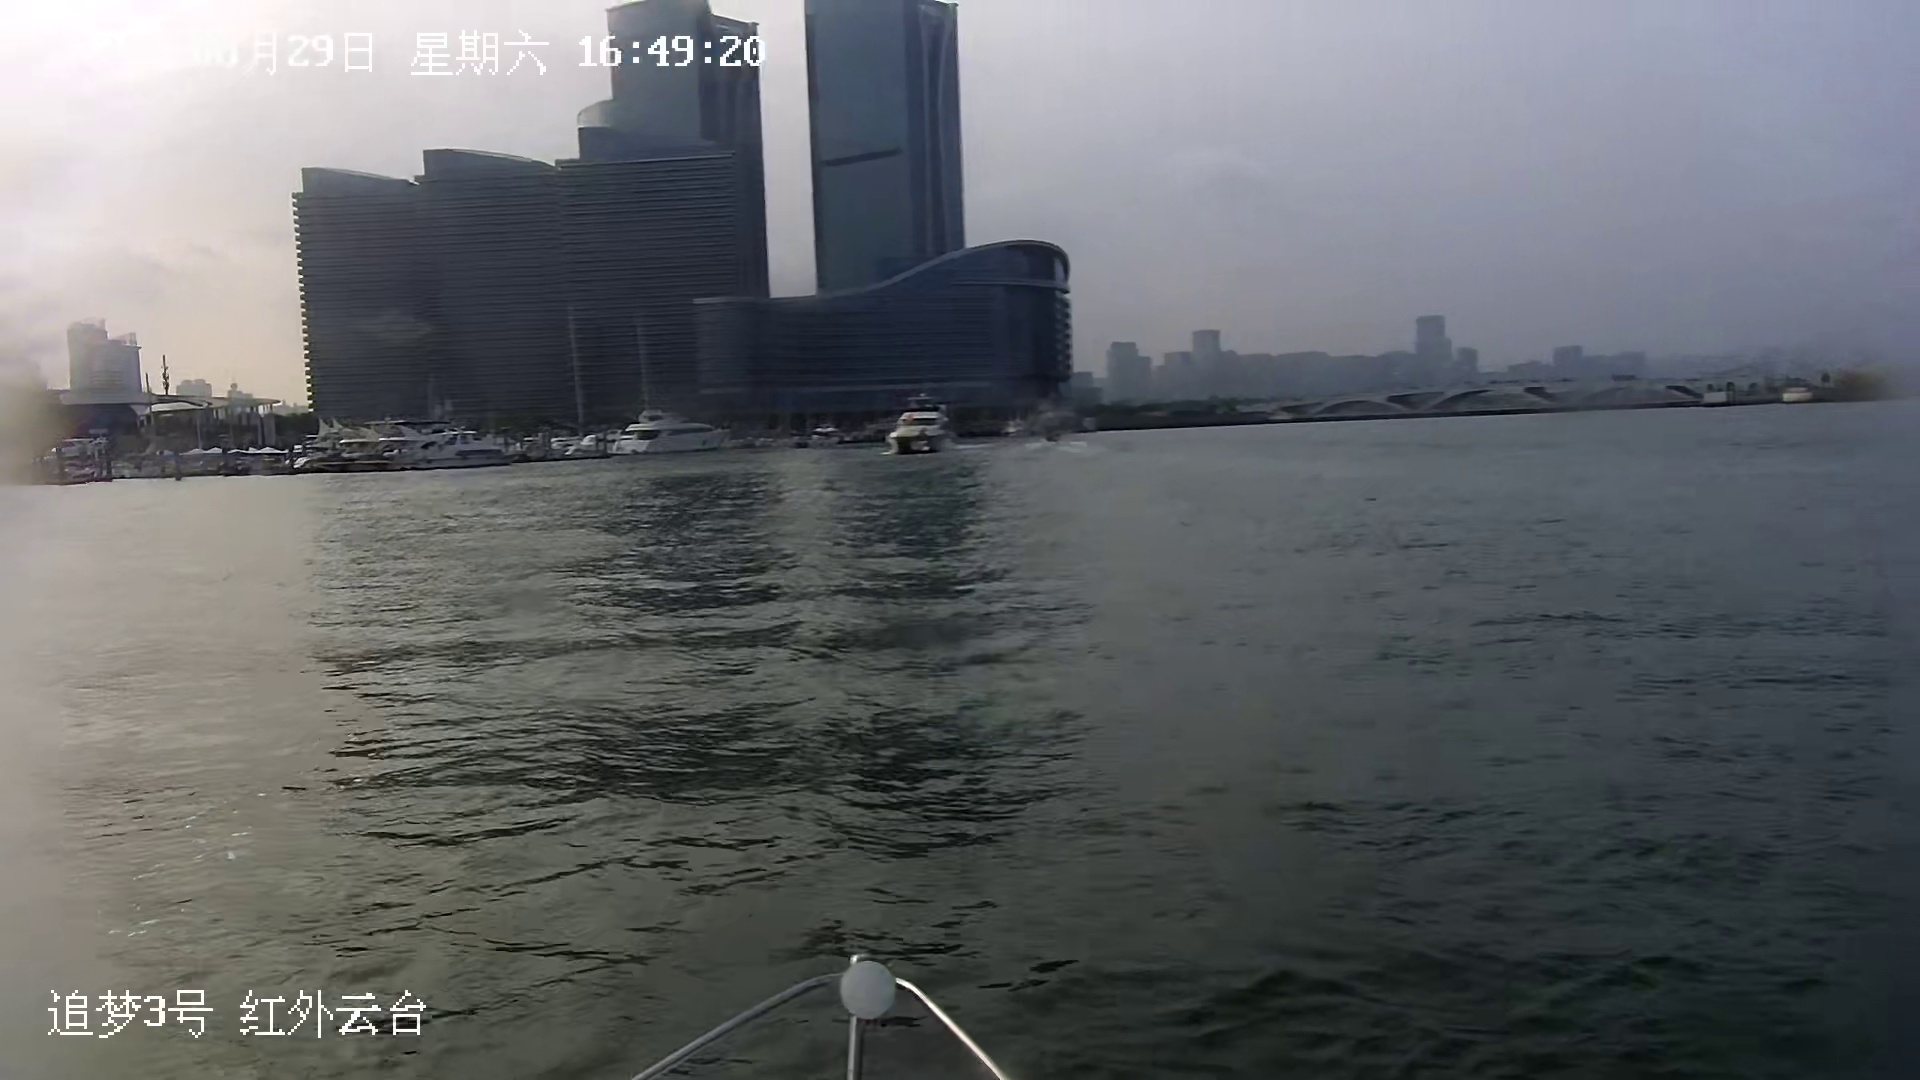barrier: (605, 415, 732, 454), (885, 400, 960, 455)
coast: (24, 1, 1920, 493)
